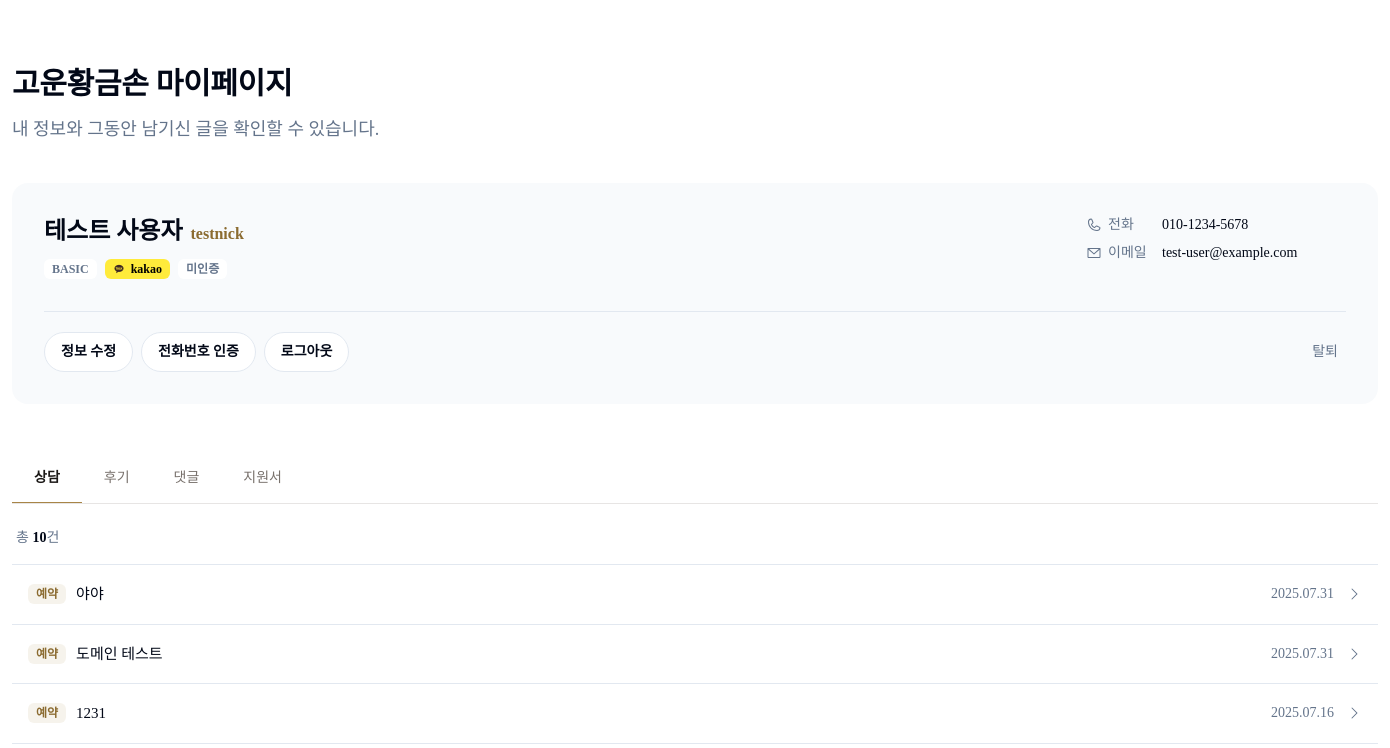
it: Mypage 컴포넌트 테스트 › 렌더링 테스트
The image size is (1390, 748).
Expected: the heading "고운황금손 마이페이지" is shown, [12,67,292,100]
Expected: the text "테스트 사용자" is shown, [44,215,182,247]
Click the tab "후기". click: (117, 478)
box: [82,452,152,504]
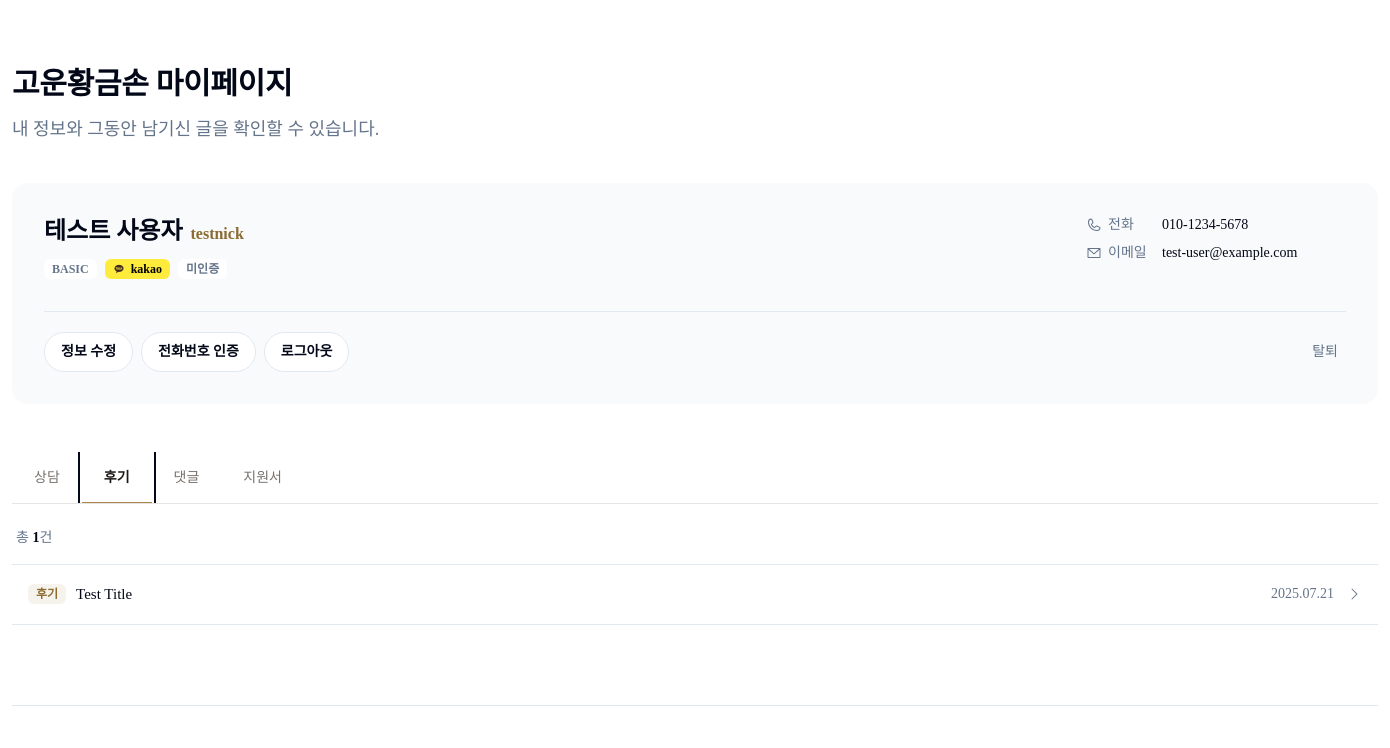
Expected: the button with test id "123" is shown, [12,569,1378,620]
Click the tab "댓글". click: (186, 478)
box: [152,452,221,504]
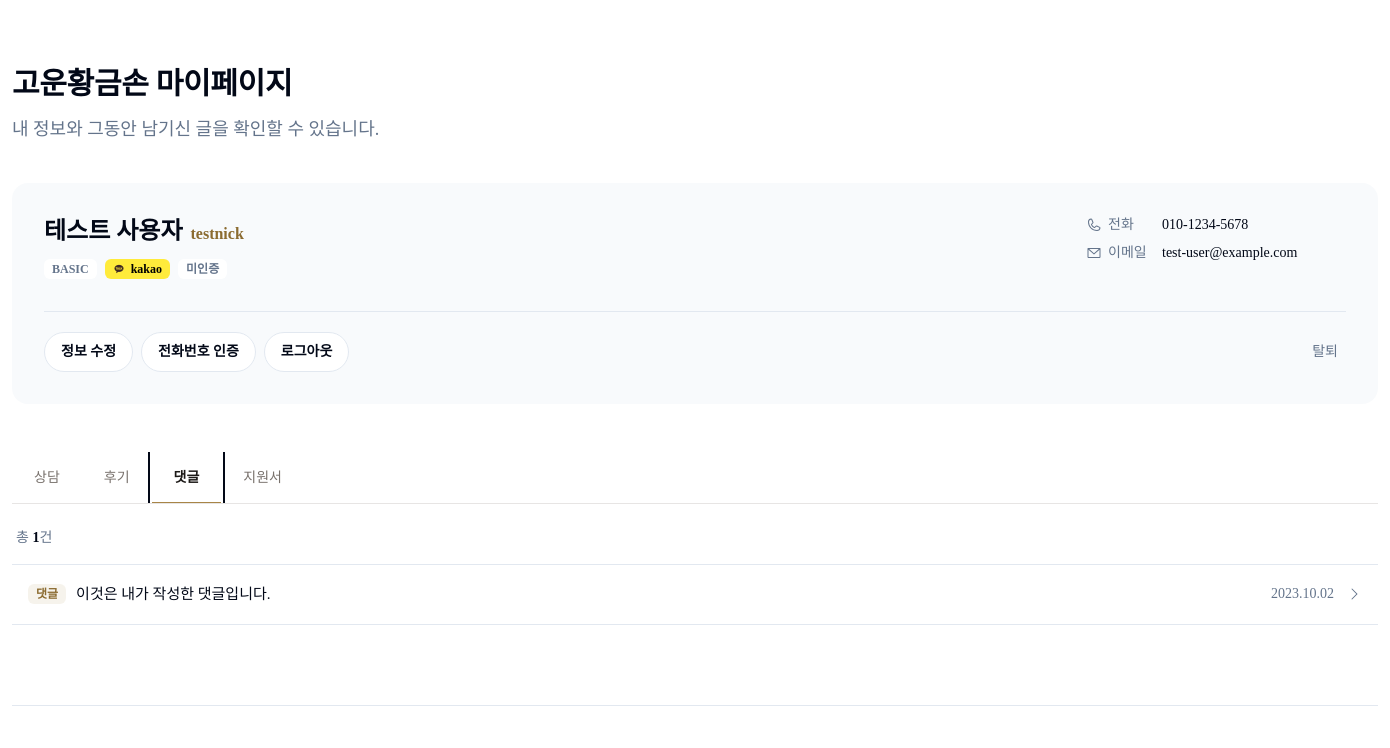
Expected: the button with test id "124312" is shown, [12,569,1378,620]
